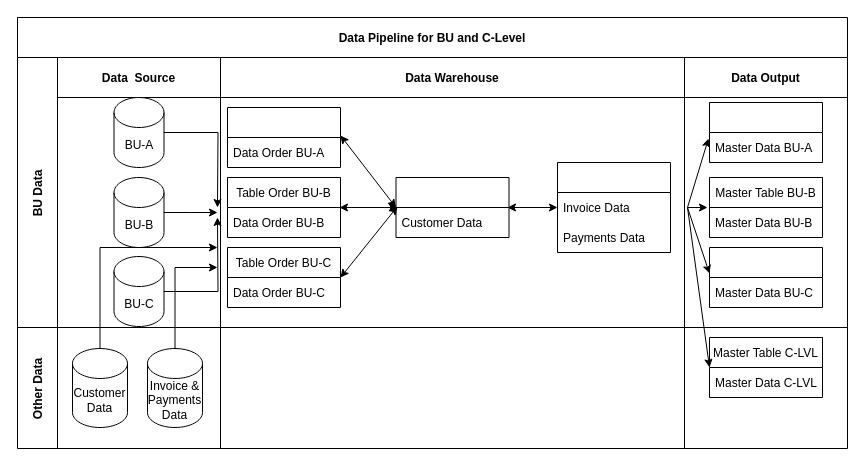
Image size: 865x466. Some labels were removed from this diagram. Each missing label, with the box of its shape:
Master Table BU-A: (708, 102, 822, 162)
Master Table BU-C: (708, 246, 822, 308)
Table Customers: (395, 176, 509, 238)
Table Invoice & Payments: (556, 162, 670, 252)
Table Order BU-A: (226, 106, 340, 168)
